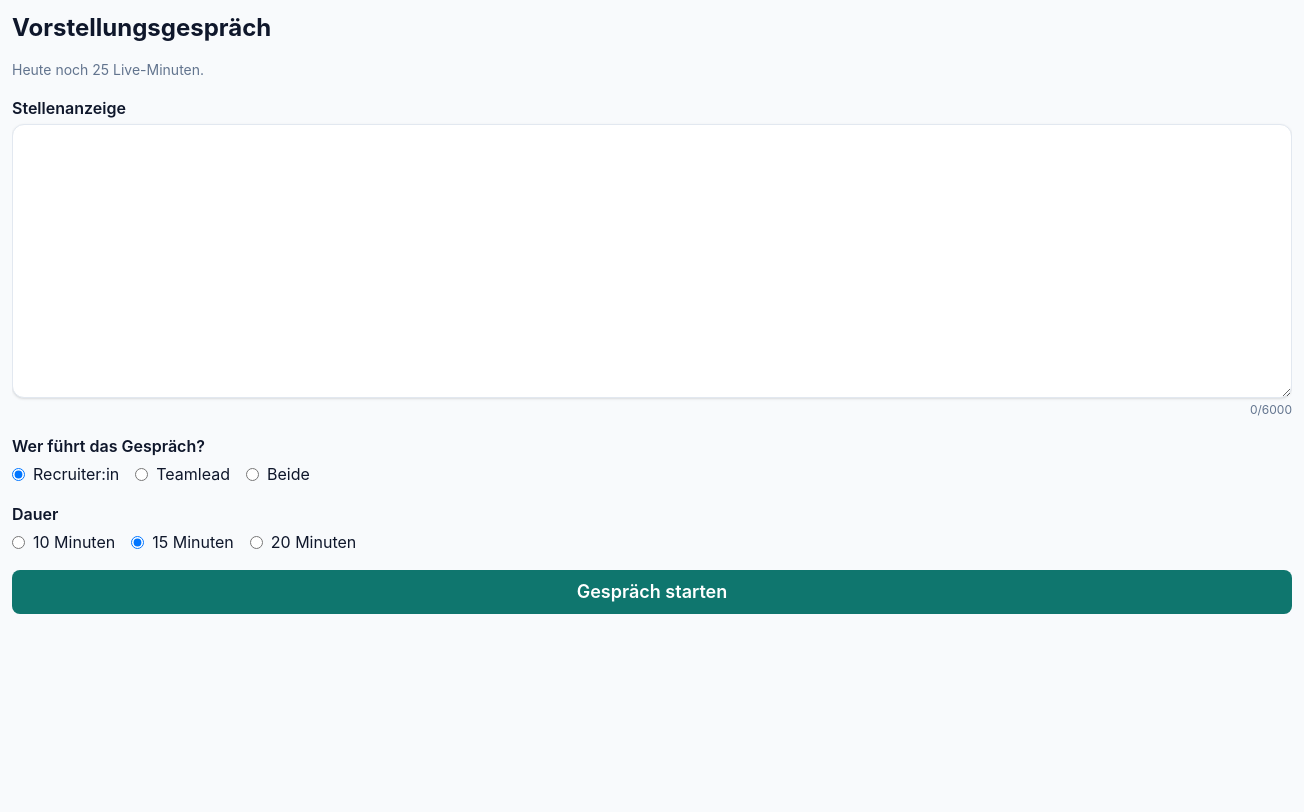
Test: Interview › shows the form with the remaining live minutes and a character counter
The image size is (1304, 812).
Expected: the text "Heute noch 25 Live-Minuten." is shown, [12,61,204,78]
Expected: the text "0/6000" is shown, [1250,402,1292,418]
Type "Hallo" into the text box labelled "Stellenanzeige" at (652, 261), box [12,124,1292,398]
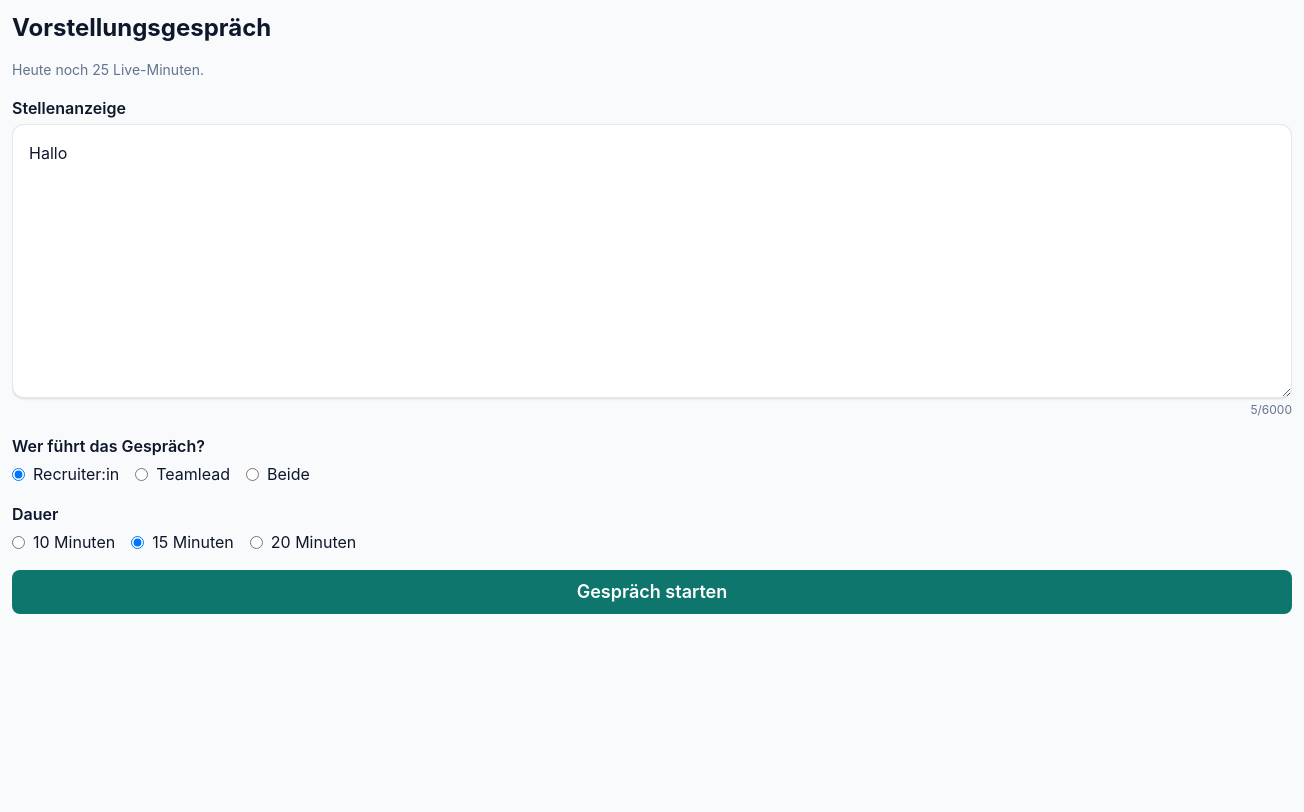
Expected: the radio button labelled "Recruiter:in" is checked, [12,468,25,480]
Result: the text "5/6000" is shown at [1250,402,1292,418]
